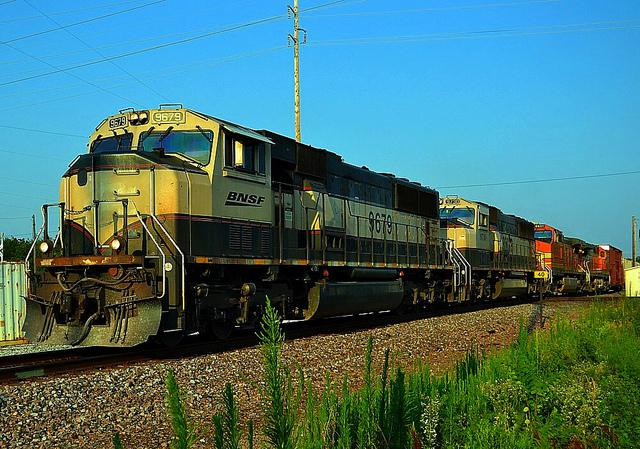Train: (22, 103, 626, 351)
